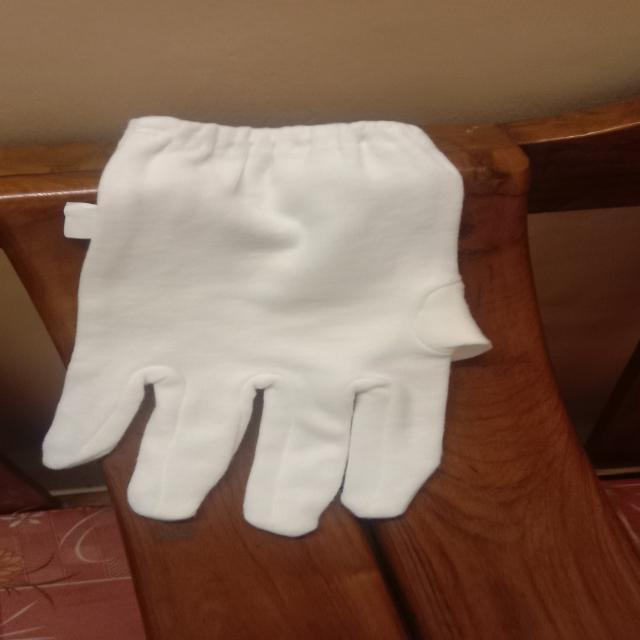gloved_hand: (28, 109, 502, 540)
